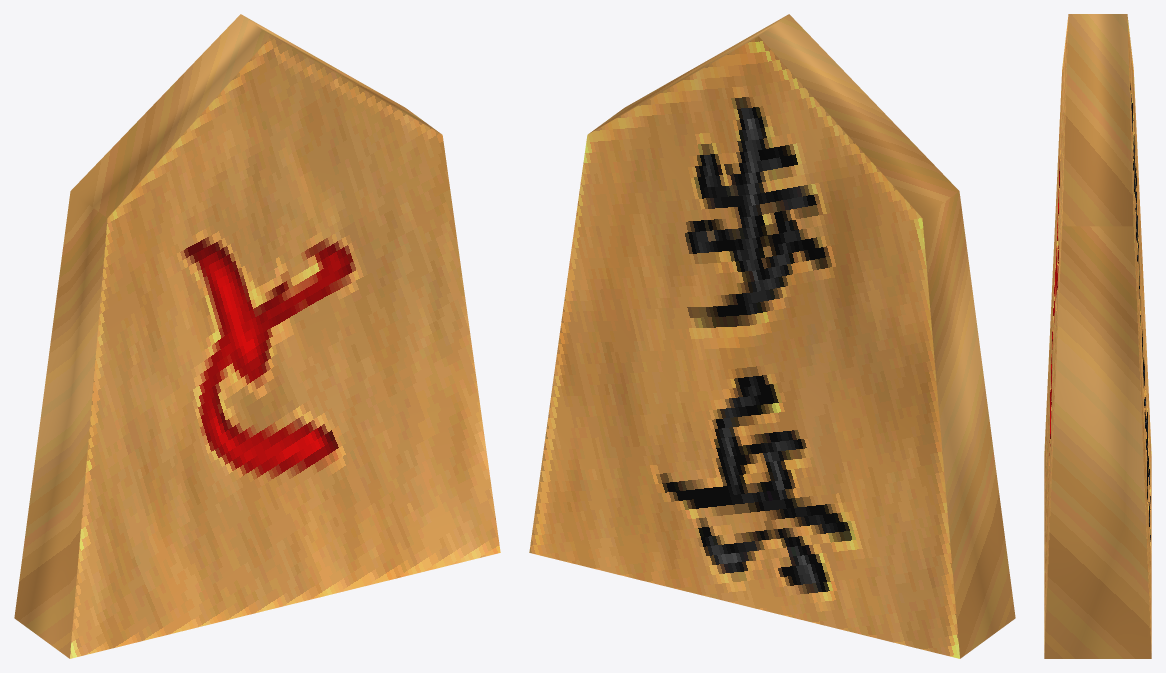
Rendered from ps2_save-icons_sweetseason.glb.
The picture shows the model from 3 angles, left to right: view 1: azimuth 30°, elevation 25°; view 2: azimuth 150°, elevation 25°; view 3: azimuth 270°, elevation 25°; orthographic projection. The views are drawn at different scales.
Visible parts, largest first — view 1: sweet.ico; view 2: sweet.ico; view 3: sweet.ico.
Part boxes in pixels (left/top/right/bottom): sweet.ico: left=14, top=14, right=500, bottom=658; sweet.ico: left=529, top=14, right=1015, bottom=658; sweet.ico: left=1044, top=14, right=1151, bottom=658.
Bounding box in the file's own units: 3.81 × 4.74 × 0.8506.
1 material, 1 textured.
